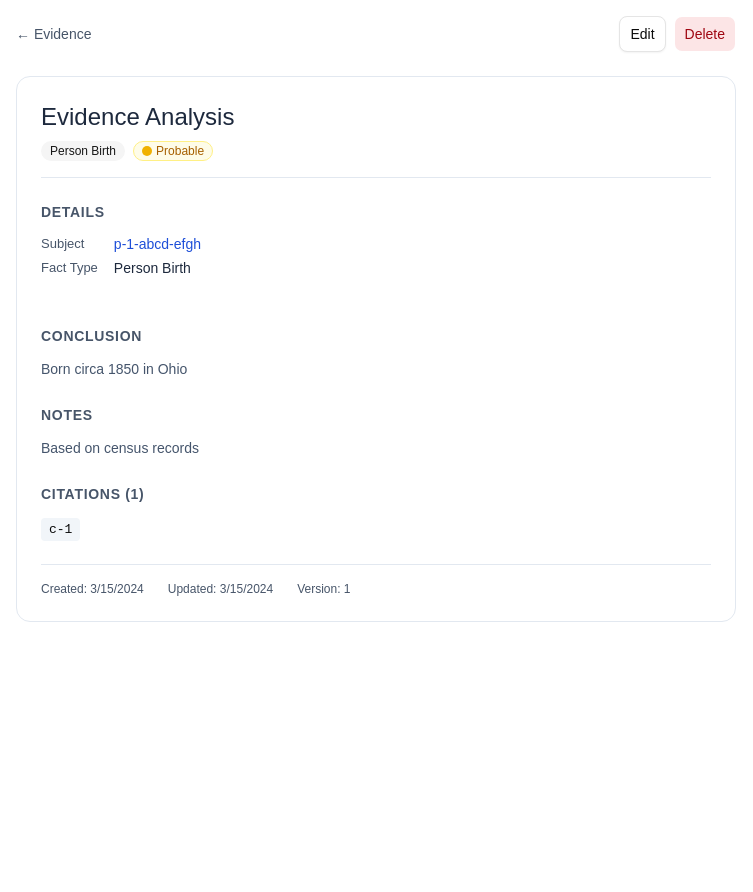
Test case: Analysis Detail Page - save conflict (#939) › compares the edits with the latest version and keeps them in the form
The image size is (753, 892).
Click the button "Edit" at (642, 34), box [619,16,666,52]
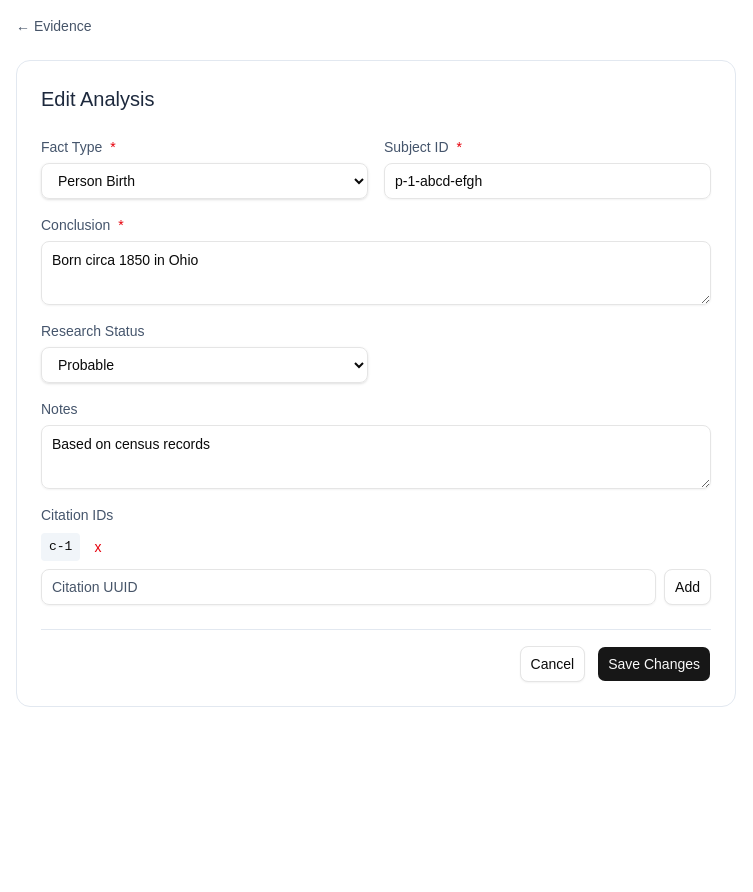
Replace the text in the text box labelled "Conclusion" with "Born 1849 in Ohio" at (376, 273), box [41,241,711,305]
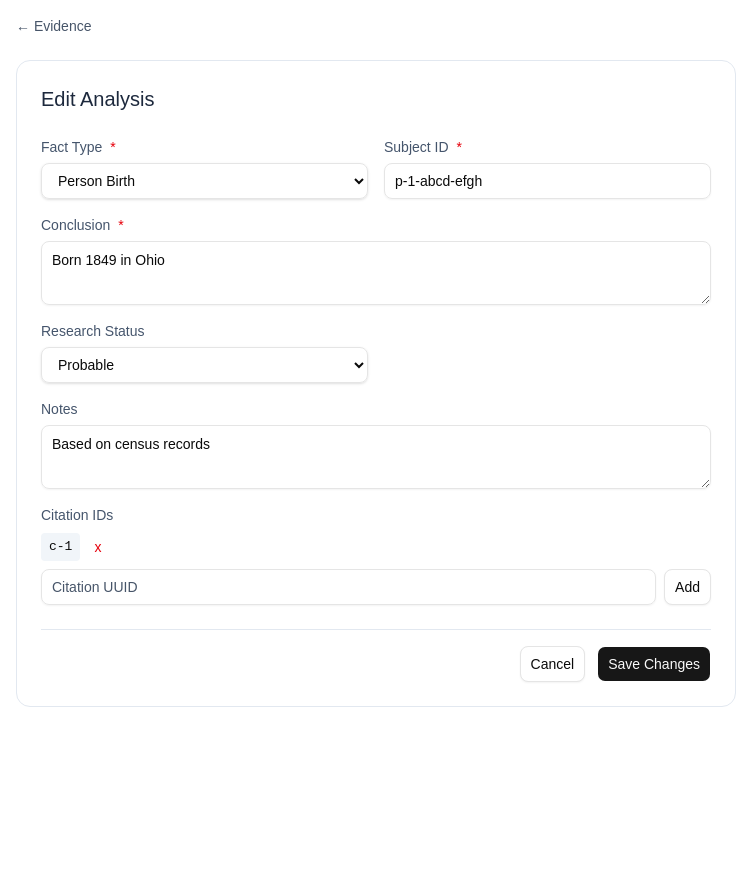
Click the button "Save Changes" at (654, 664), box [597,646,711,682]
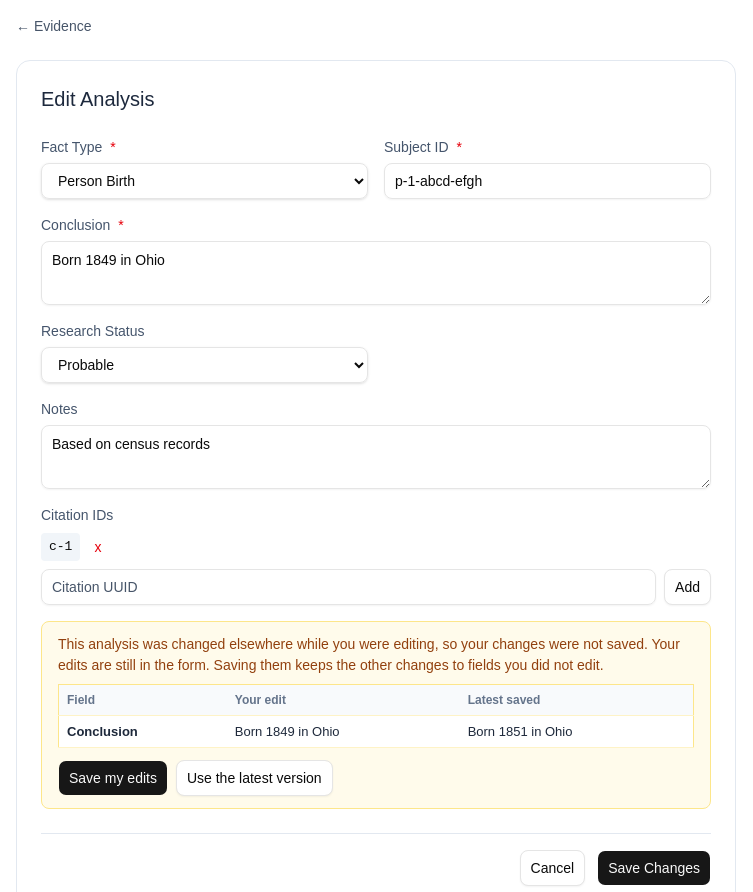
Expected: the column heading "Conclusion" is shown, [58,716,227,748]
Expected: the cell with test id "mine" reads "Born 1849 in Ohio", [235,724,340,738]
Expected: the cell with test id "latest" reads "Born 1851 in Ohio", [468,724,572,738]
